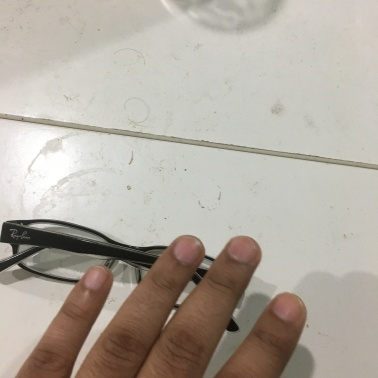glasses: (3, 209, 249, 330)
